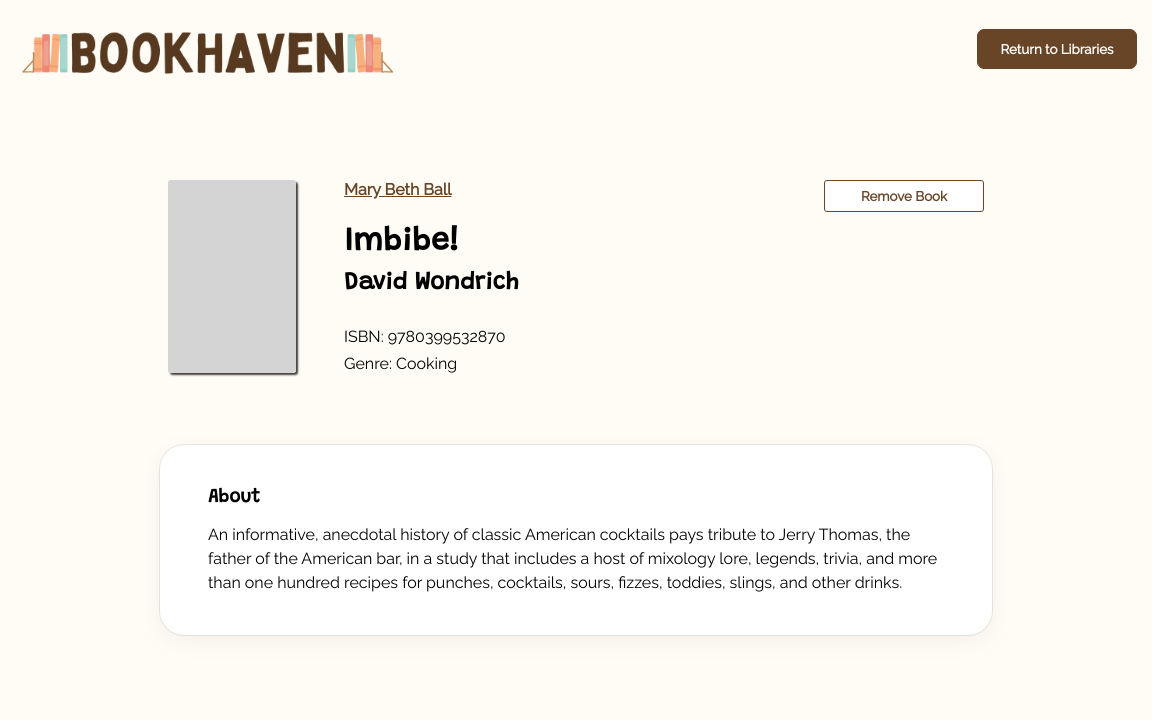
Test: Book Details page › User can click a button to remove this book from this library, and be prompted to confirm removal
Click the button with class "books-remove-button".
click(904, 196)  # box x1=824 y1=180 x2=984 y2=212
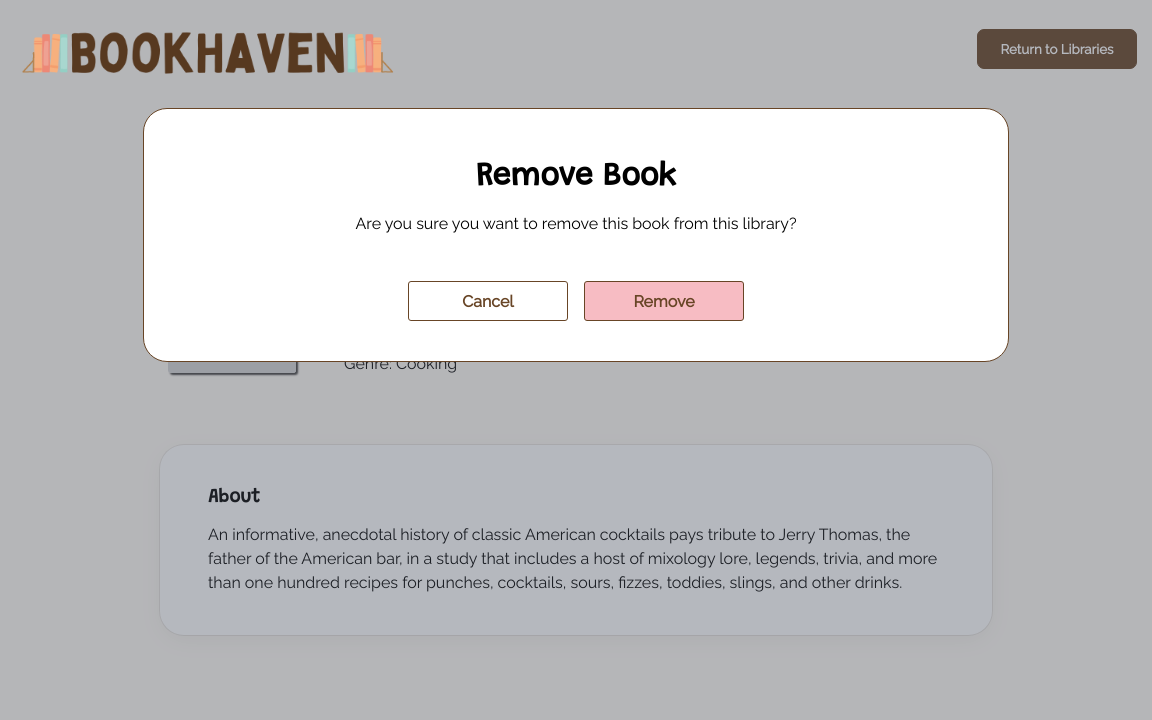
Click the button with class "deletebtn".
click(664, 302)  # box x1=584 y1=282 x2=744 y2=322
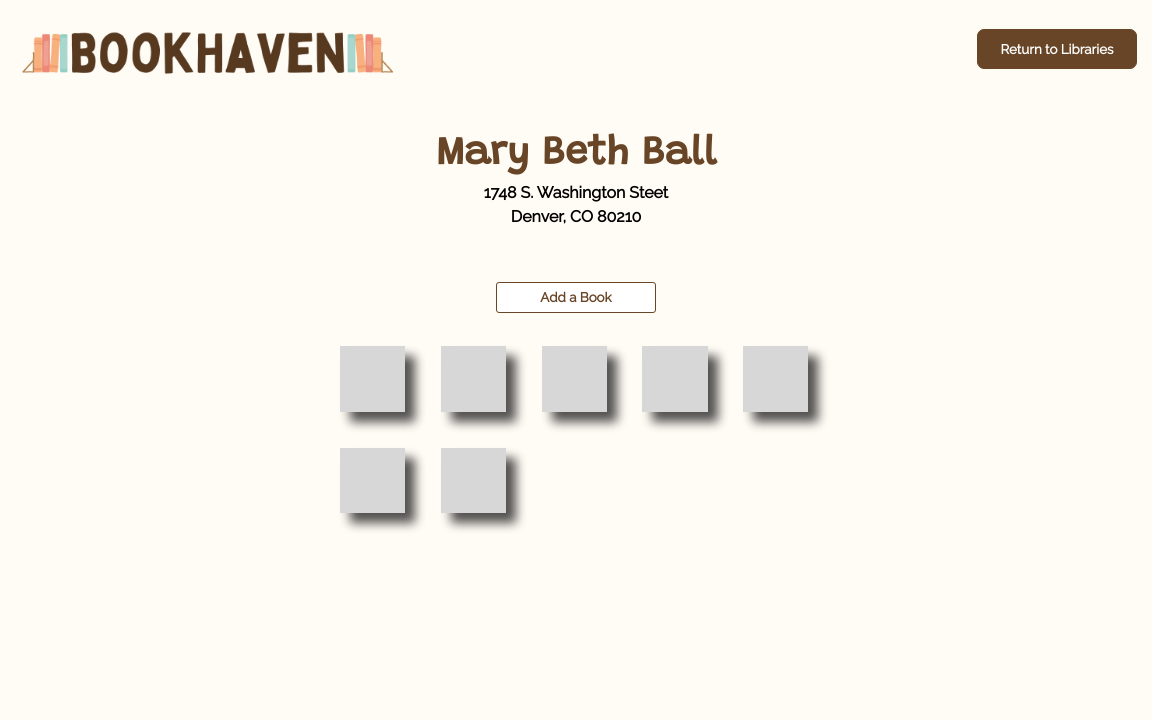
Expected: the heading "Imbibe!" no longer shows "Imbibe"
